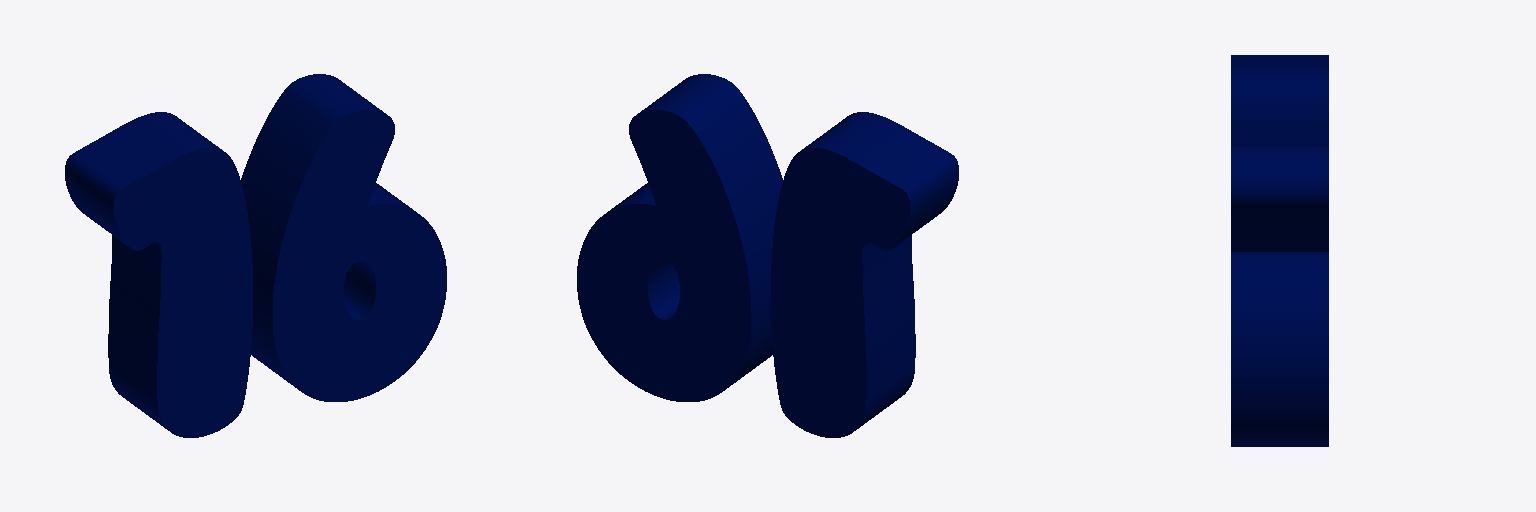
Rendered from Number16.obj.
The picture shows the model from 3 angles: view 1: azimuth 30°, elevation 25°; view 2: azimuth 150°, elevation 25°; view 3: azimuth 270°, elevation 25°; orthographic projection.
Visible parts, largest first — view 1: Text; view 2: Text; view 3: Text.
Part boxes in pixels (x1,y1,x2,y2): Text: (65,74,446,437); Text: (577,74,958,437); Text: (1231,55,1328,446).
Size of the model in its own units: 0.7092 by 0.5869 by 0.18.